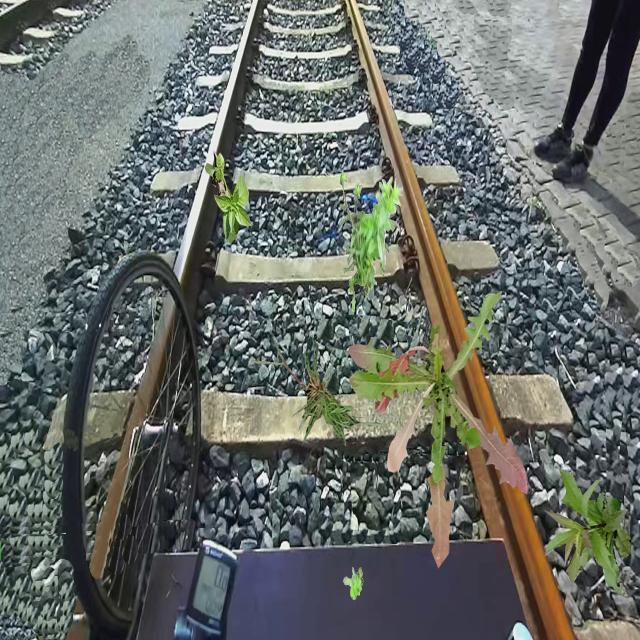Plant: (348, 291, 528, 569), (251, 330, 394, 450), (543, 468, 632, 598), (339, 169, 404, 312), (205, 150, 253, 245), (343, 567, 364, 600)
